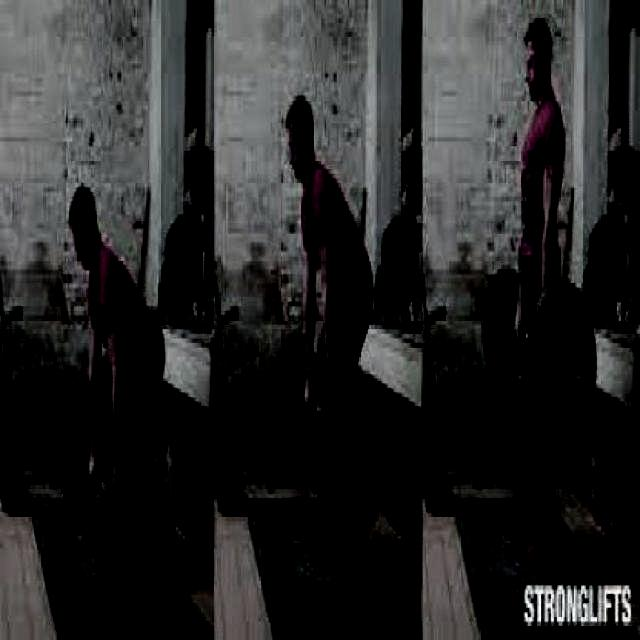barbell: (103, 452, 180, 640), (317, 367, 394, 547), (525, 277, 600, 449)
